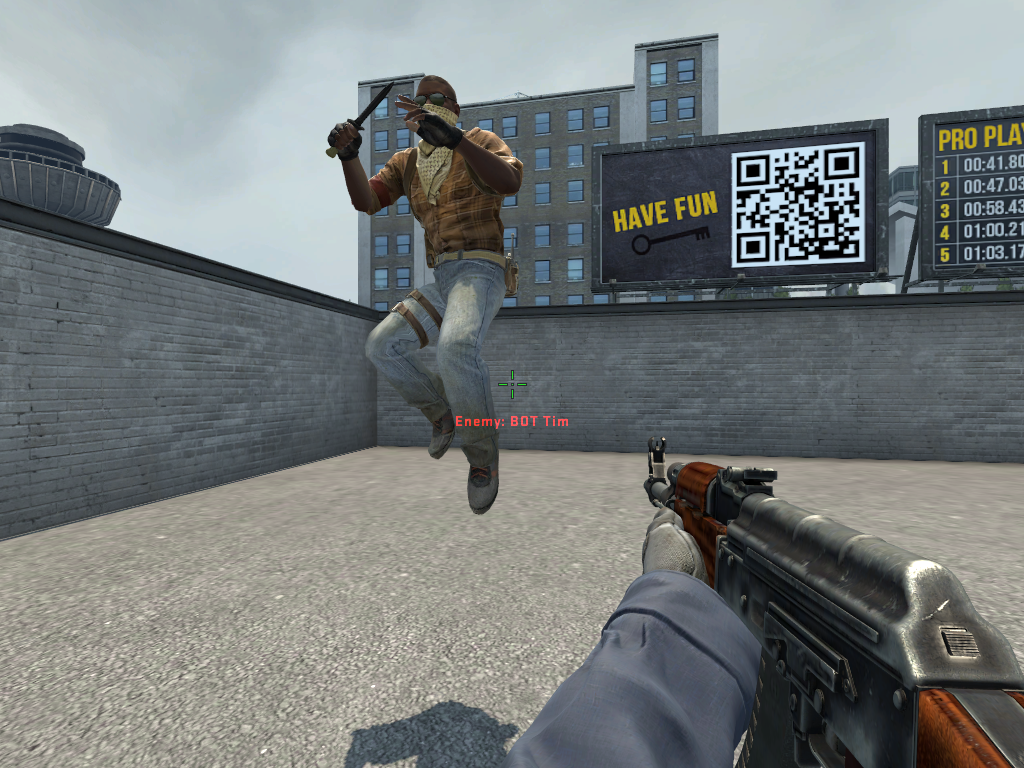tr head: (400, 75, 469, 141)
